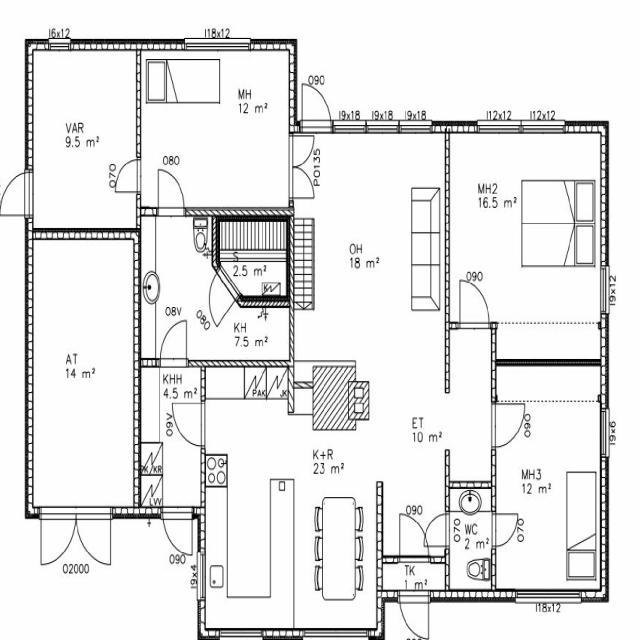door: (198, 266, 240, 328), (41, 508, 76, 571), (76, 508, 111, 571), (302, 78, 332, 132), (163, 508, 192, 562), (460, 279, 490, 330), (400, 515, 430, 565), (399, 591, 429, 640), (172, 404, 206, 447), (0, 172, 33, 216), (492, 405, 526, 447), (158, 169, 184, 216), (161, 322, 187, 367), (423, 514, 450, 547), (492, 514, 519, 547), (115, 160, 142, 192), (289, 136, 315, 167), (289, 167, 315, 198)
